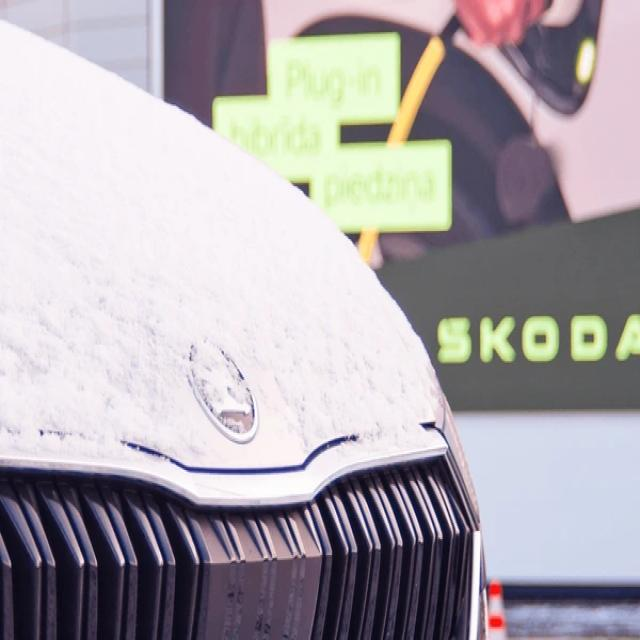skoda: (178, 344, 266, 442)
